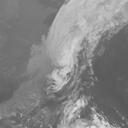cyclone: (35, 1, 126, 127)
